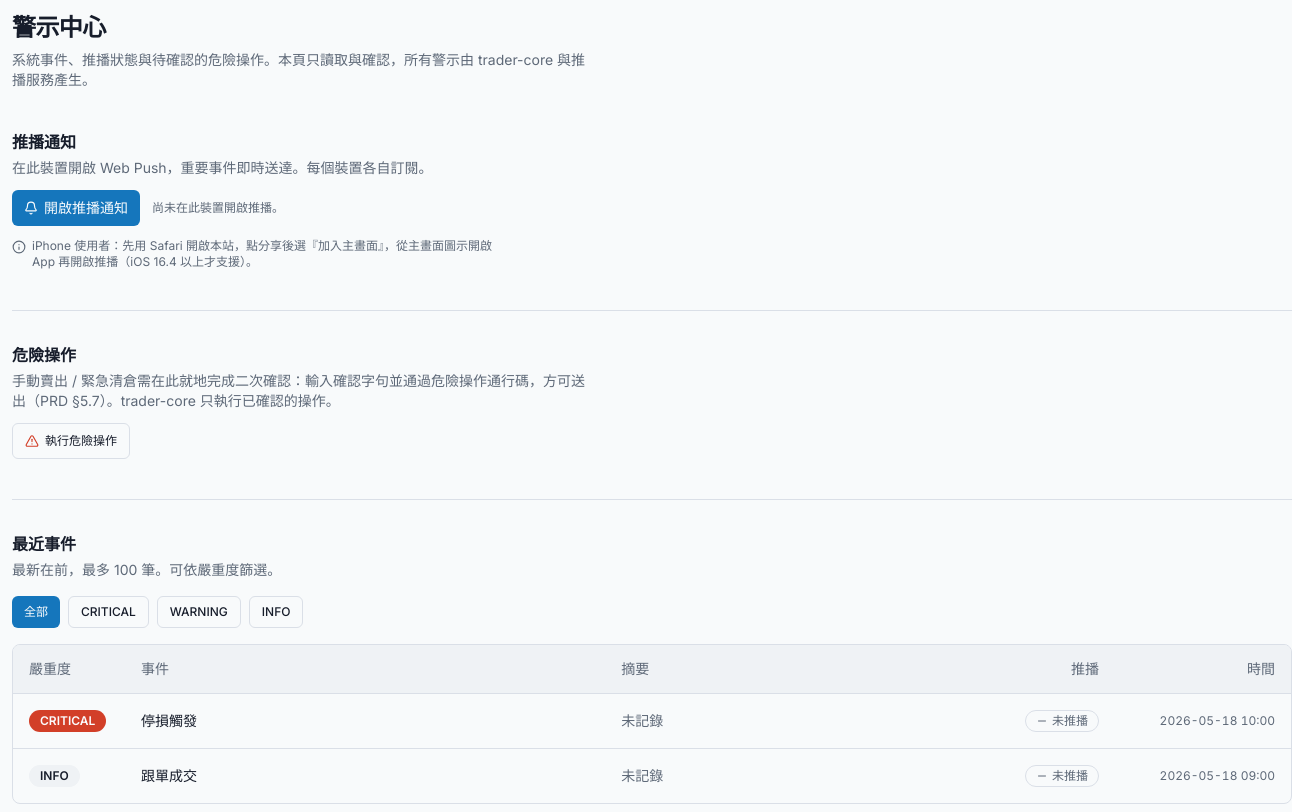
Test: /alerts page (Server Component) › filters by severity client-side
This screenshot has width=1292, height=812.
Expected: the text "停損觸發" is shown, [125,693,605,748]
Expected: the text "跟單成交" is shown, [125,748,605,802]
Click the button "CRITICAL".
click(108, 612)  # box [68,596,149,628]
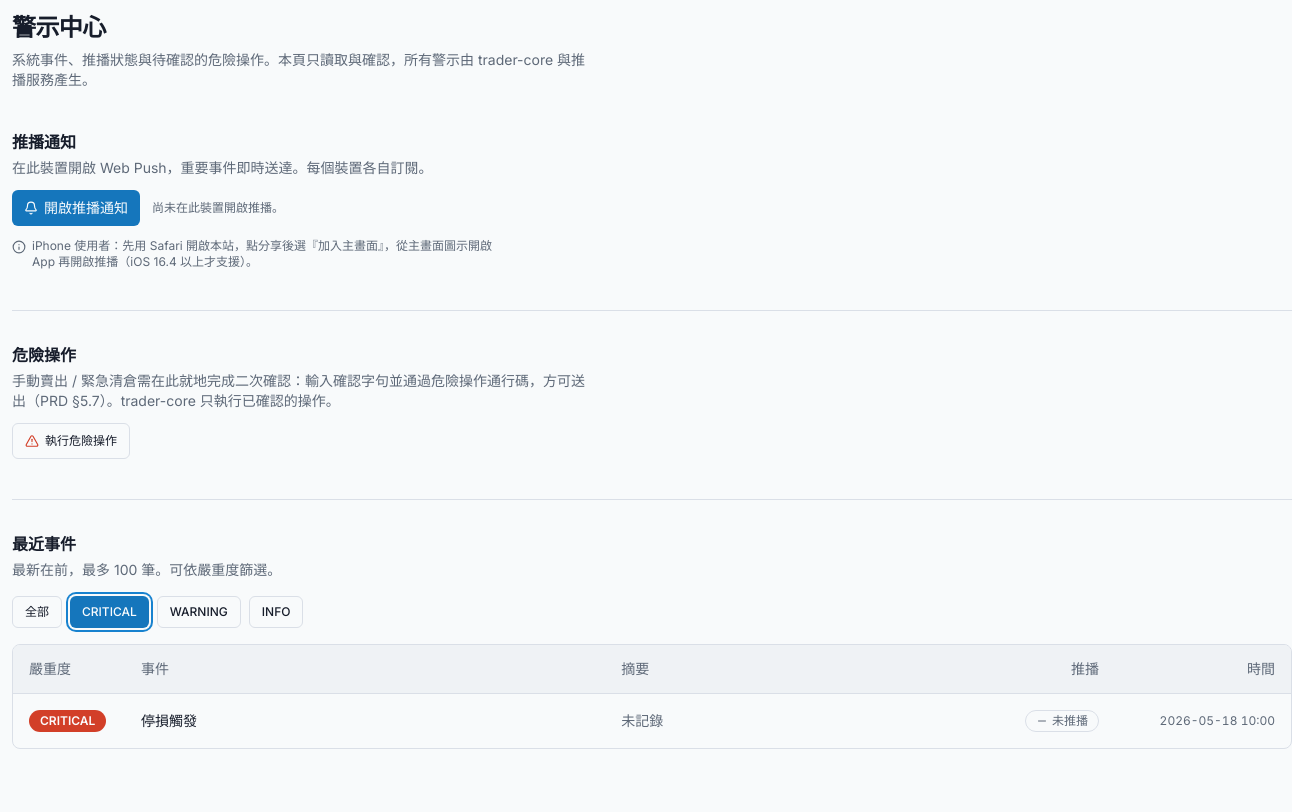
Expected: the text "停損觸發" is shown, [125,693,605,748]
Expected: the text "跟單成交" is gone
